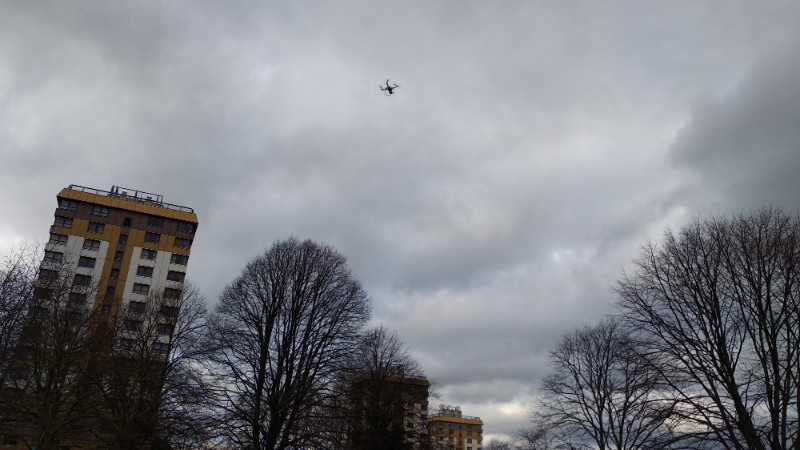drone: (380, 79, 401, 96)
